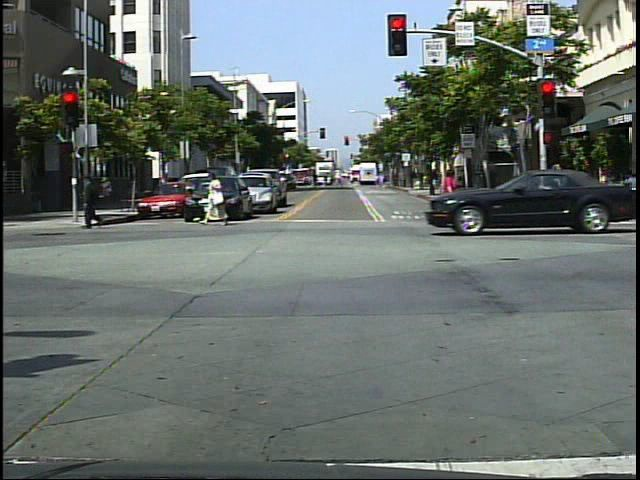person: (203, 168, 235, 232), (79, 169, 109, 235), (436, 164, 465, 226), (547, 160, 569, 211)
